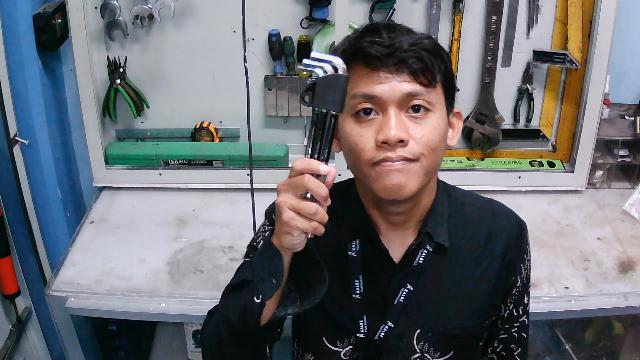kunci_l: (297, 46, 351, 243)
